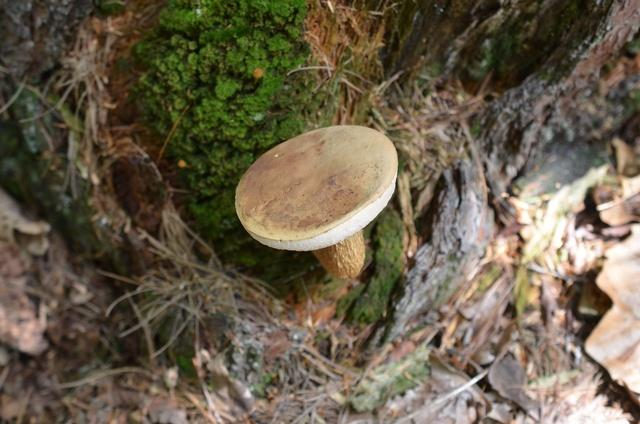Non-edible Mushroom: (233, 123, 399, 280)
